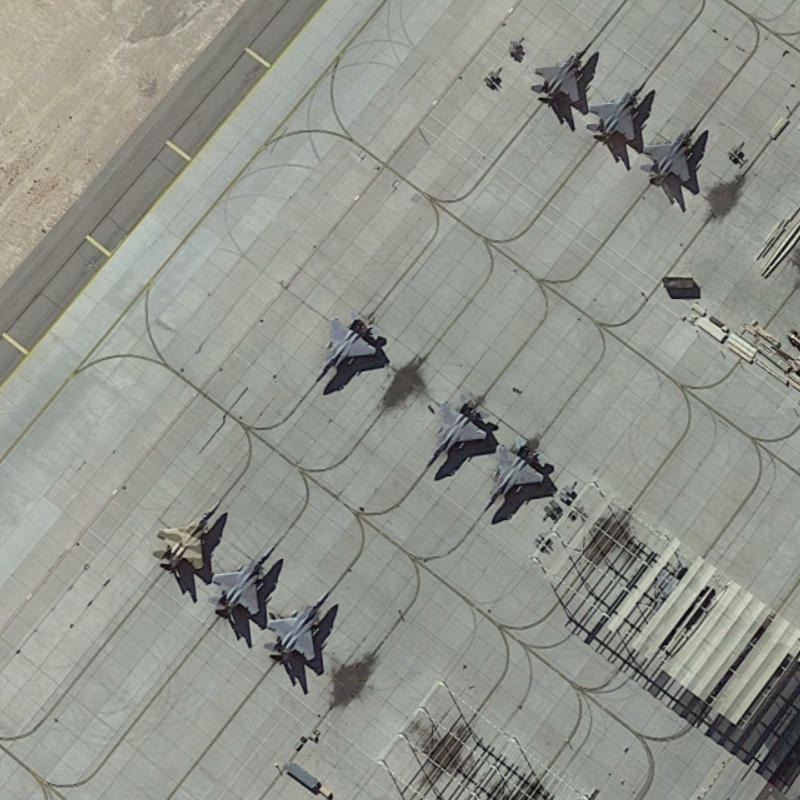A13: (258, 582, 338, 676), (150, 493, 226, 587), (207, 538, 281, 627), (422, 383, 491, 477), (309, 304, 385, 389), (479, 433, 552, 520), (579, 74, 653, 157), (637, 116, 708, 195), (528, 35, 597, 113)
